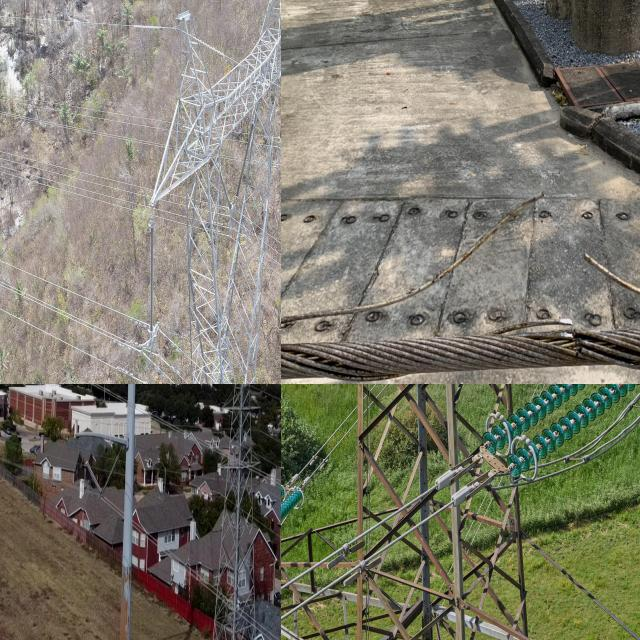杆塔: (114, 0, 281, 384), (340, 384, 537, 640), (208, 384, 266, 640)
正常绝缘子: (471, 384, 640, 483), (144, 216, 160, 364), (233, 121, 257, 203), (98, 454, 120, 501), (215, 160, 233, 213), (84, 458, 106, 500), (278, 66, 281, 141)
电缆破损: (281, 175, 640, 384)
